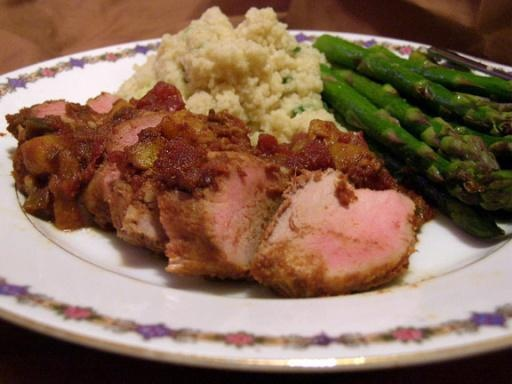background: (2, 2, 409, 178)
